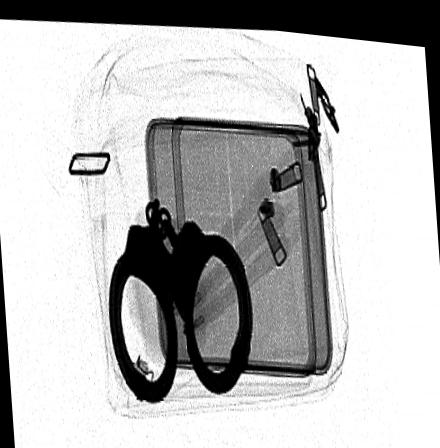HandCuffs: (107, 192, 252, 401)
